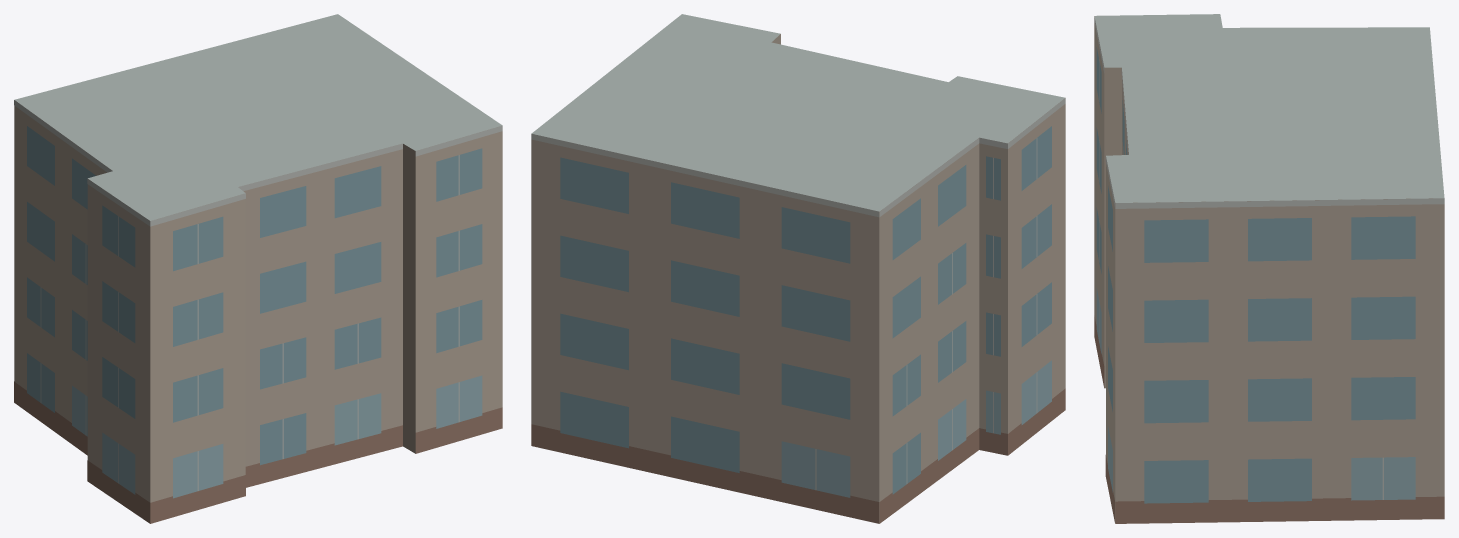
Rendered from survey-upis-32638770.glb.
The picture shows the model from 3 angles, left to right: view 1: azimuth 30°, elevation 25°; view 2: azimuth 150°, elevation 25°; view 3: azimuth 270°, elevation 25°; orthographic projection. The views are drawn at different scales.
Parts seen in each view (by area): view 1: survey-upis-32638770.tmp; view 2: survey-upis-32638770.tmp; view 3: survey-upis-32638770.tmp.
Part boxes in pixels (<box>): survey-upis-32638770.tmp: <box>14,14,502,523</box>; survey-upis-32638770.tmp: <box>531,14,1065,523</box>; survey-upis-32638770.tmp: <box>1094,14,1444,523</box>.
Size of the model in its own units: 16.69 by 13.2 by 13.07.
